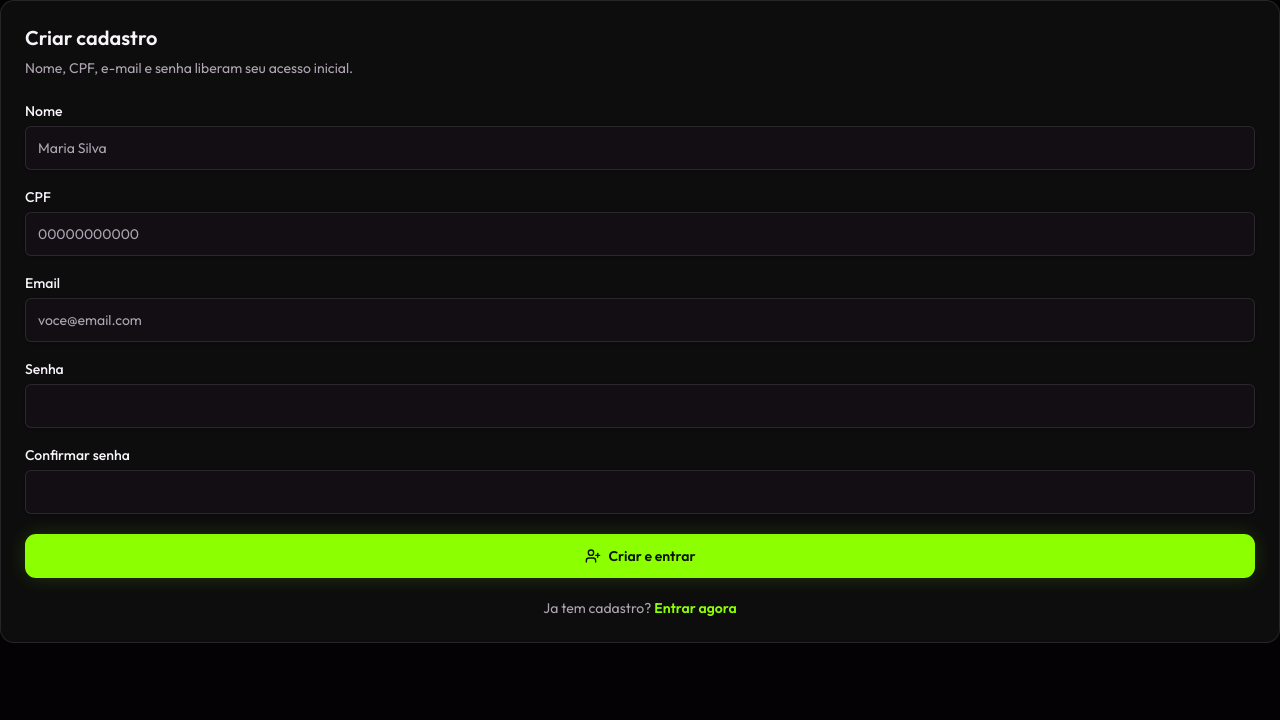
Test: RegisterForm › não envia a confirmação nem aceita senhas diferentes
Type "Ada Lovelace" into the field labelled "Nome".
click(640, 148); type("Ada Lovelace")  # box x1=25 y1=126 x2=1255 y2=170
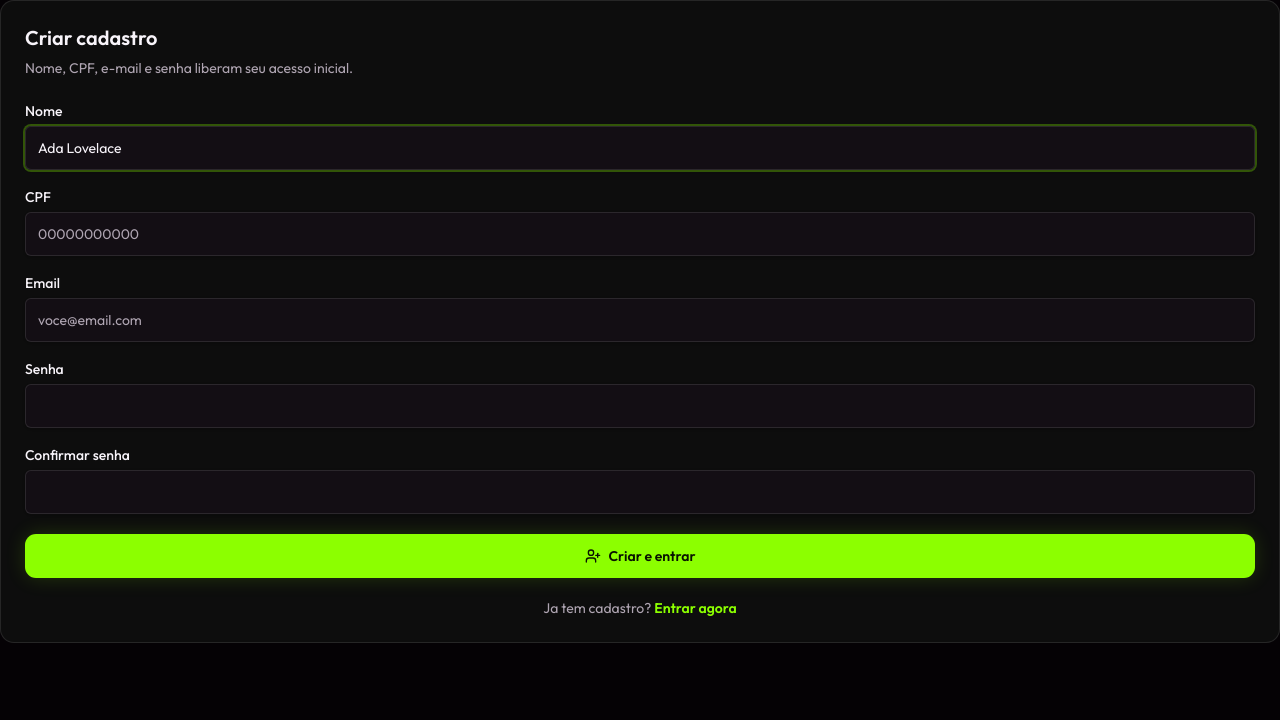
Type "12345678900" into the field labelled "CPF".
click(640, 234); type("12345678900")  # box x1=25 y1=212 x2=1255 y2=256
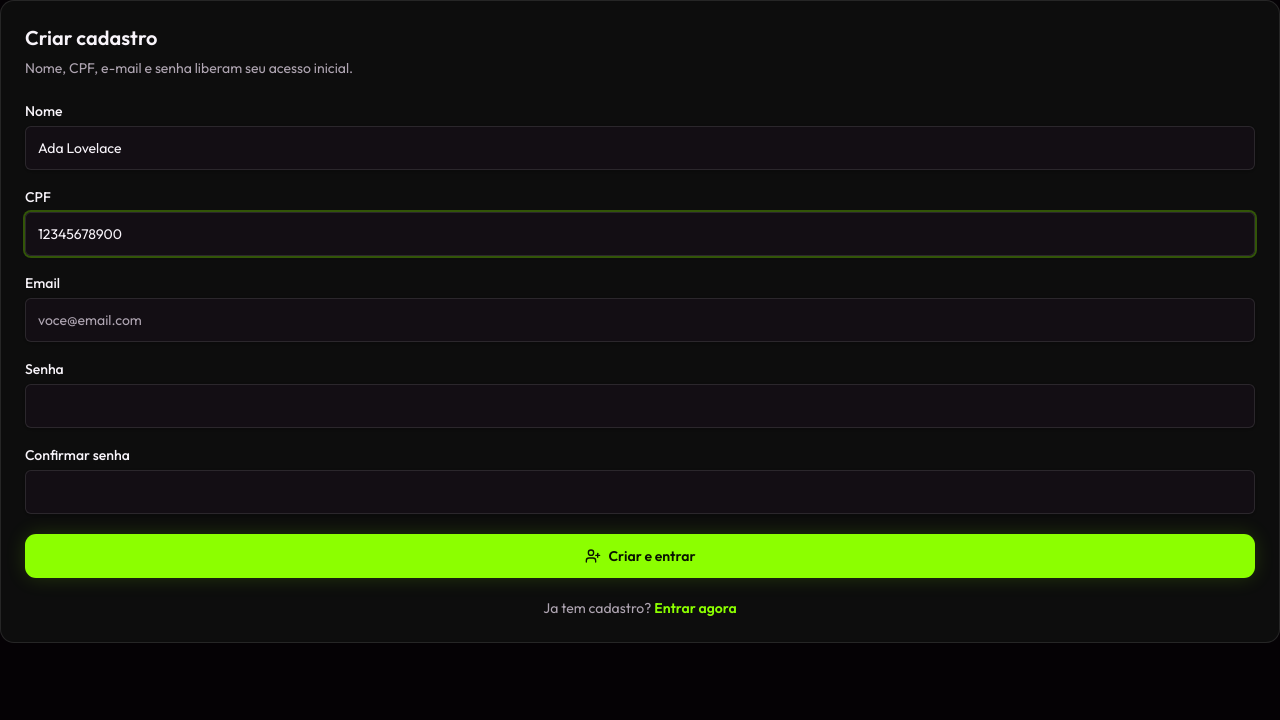
Type "ada@example.com" into the field labelled "Email".
click(640, 320); type("ada@example.com")  # box x1=25 y1=298 x2=1255 y2=342
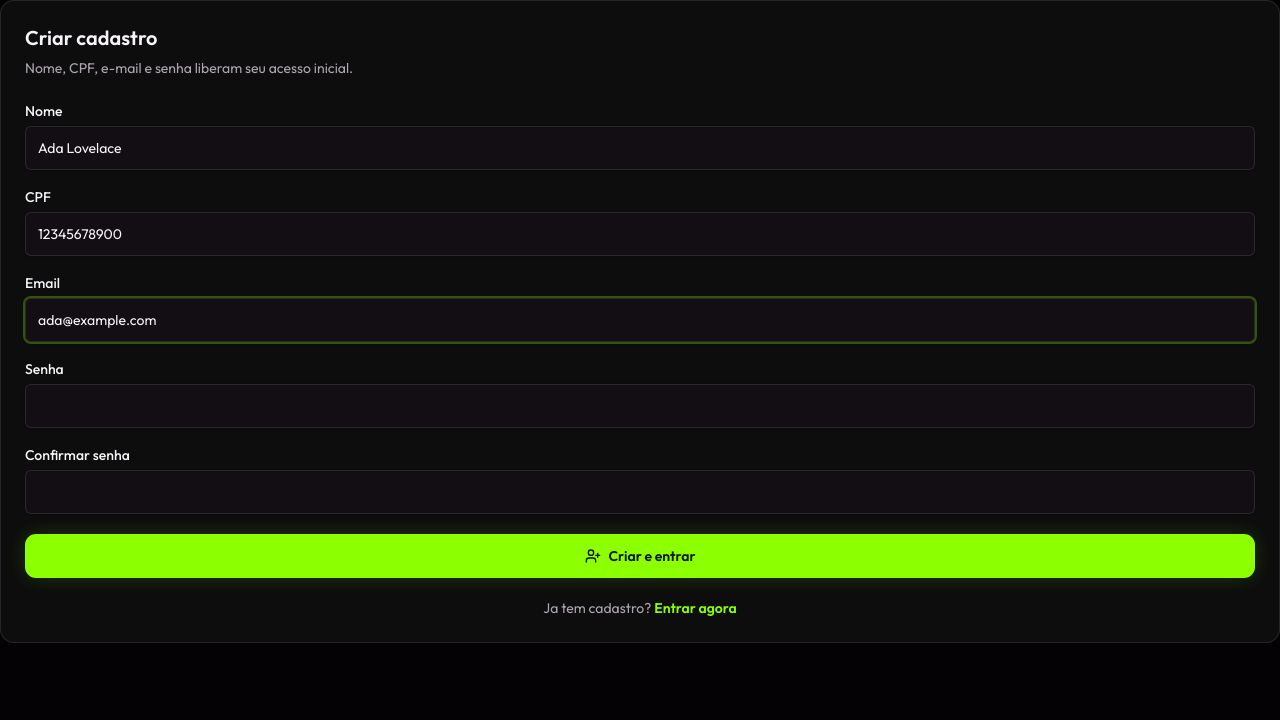
Type "senha livre" into the password field labelled "Senha".
click(640, 406); type("senha livre")  # box x1=25 y1=384 x2=1255 y2=428
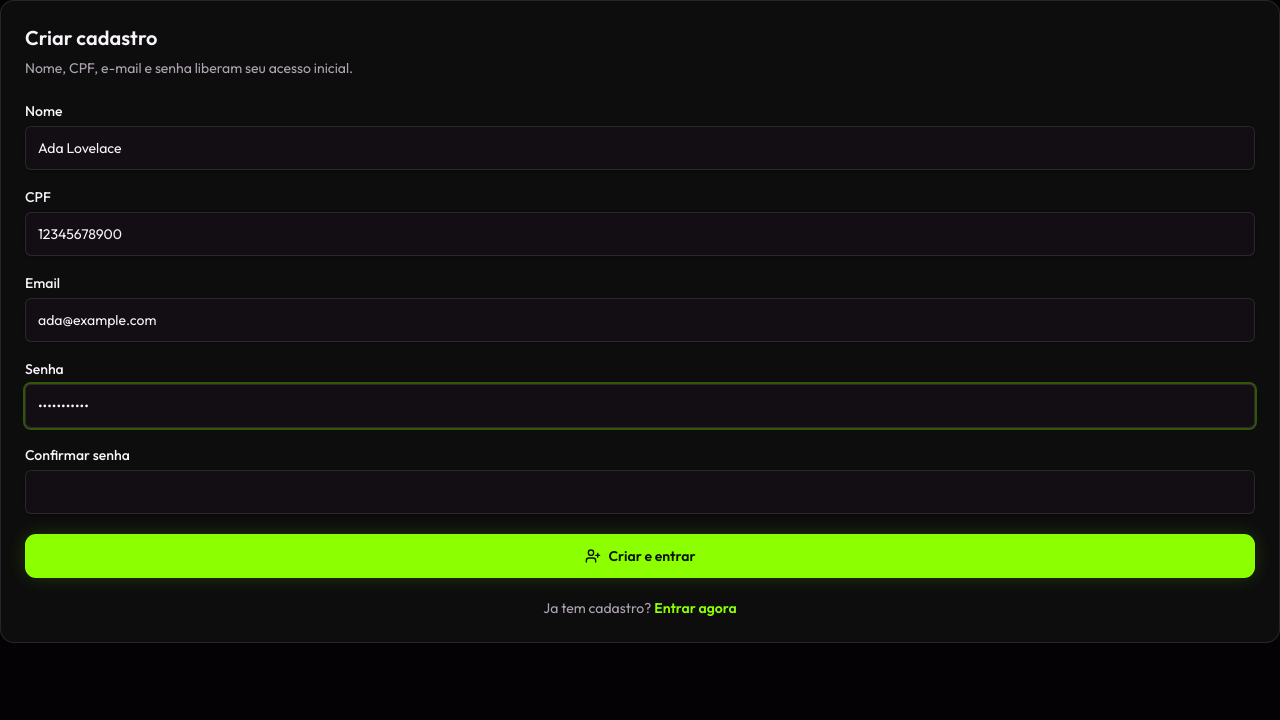
Type "outra senha" into the password field labelled "Confirmar senha".
click(640, 492); type("outra senha")  # box x1=25 y1=470 x2=1255 y2=514
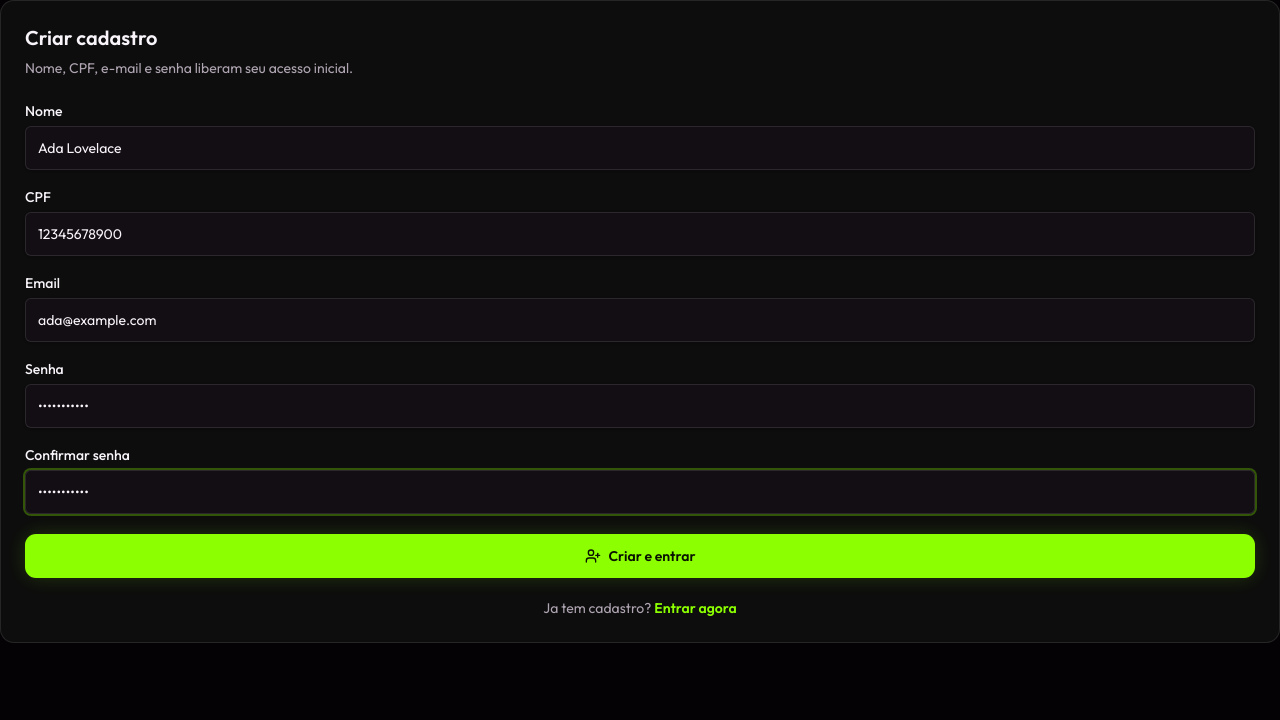
Click the button "Criar e entrar".
click(640, 556)  # box x1=25 y1=534 x2=1255 y2=578
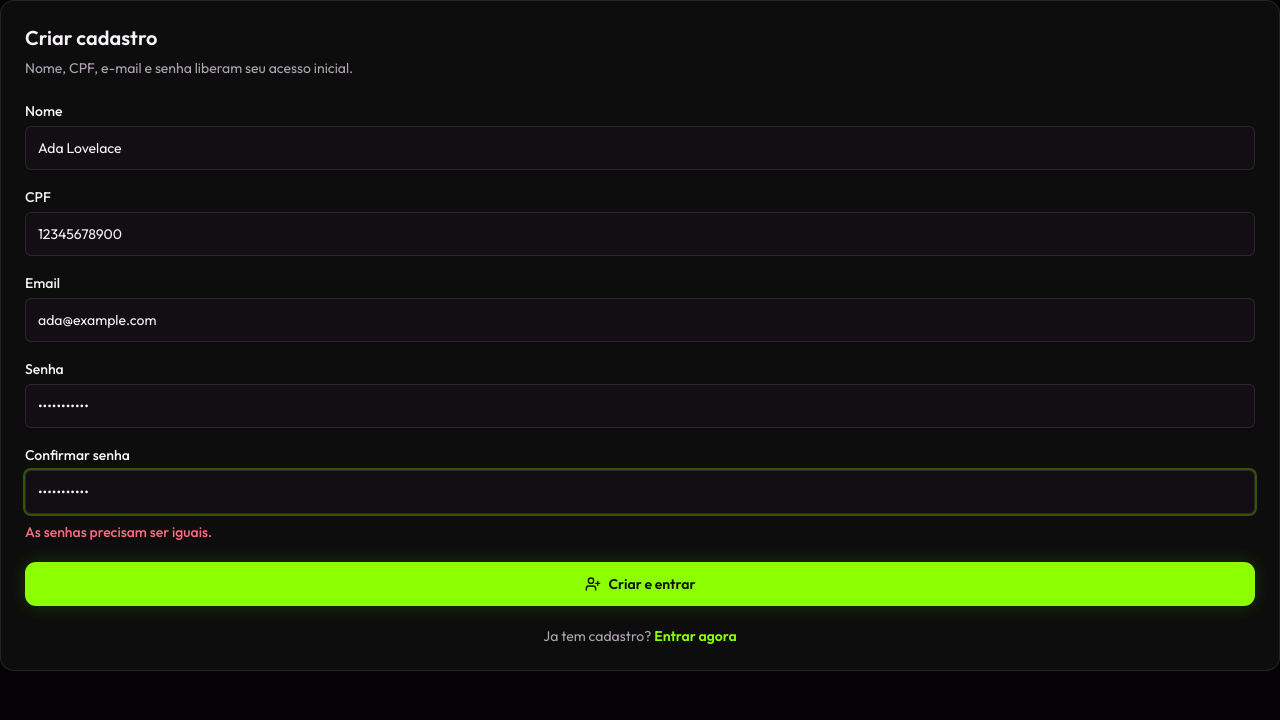
Result: the text "As senhas precisam ser iguais." is shown at x1=25 y1=523 x2=212 y2=541
